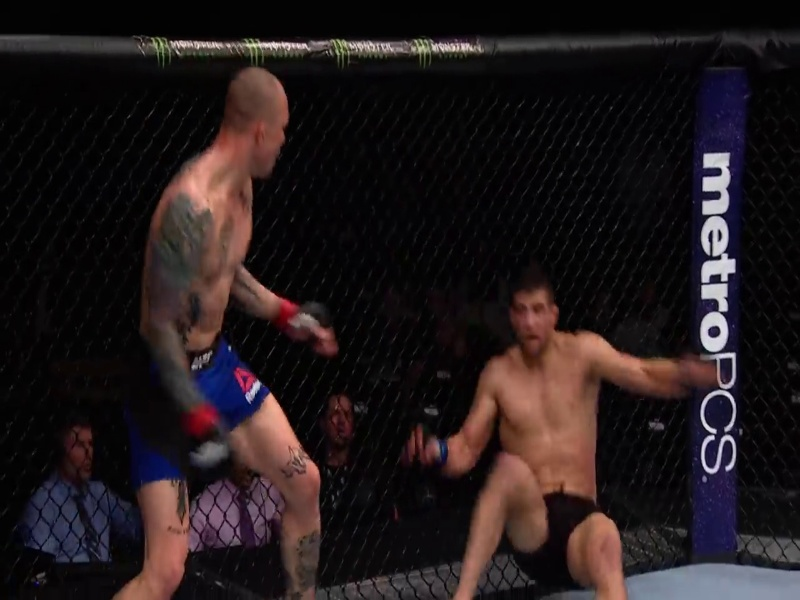fighter: (114, 48, 346, 600), (385, 281, 732, 600)
